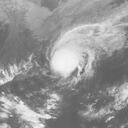cyclone: (48, 44, 89, 82)
